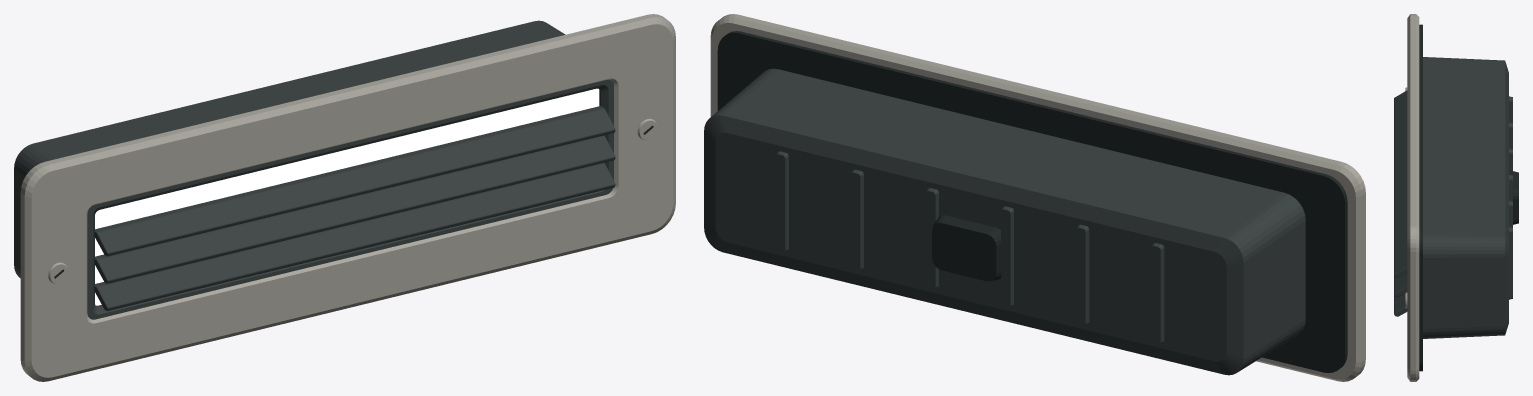
The picture shows the model from 3 angles, left to right: view 1: azimuth 30°, elevation 25°; view 2: azimuth 150°, elevation 25°; view 3: azimuth 270°, elevation 25°; orthographic projection. The views are drawn at different scales.
Visible parts, largest first — view 1: Fixture; view 2: Fixture; view 3: Fixture.
Part boxes in pixels (x1=…): Fixture: x1=14, y1=14, x2=675, y2=381; Fixture: x1=704, y1=14, x2=1365, y2=381; Fixture: x1=1394, y1=14, x2=1518, y2=381.
Size of the model in its own units: 0.274 by 0.087 by 0.0638.
